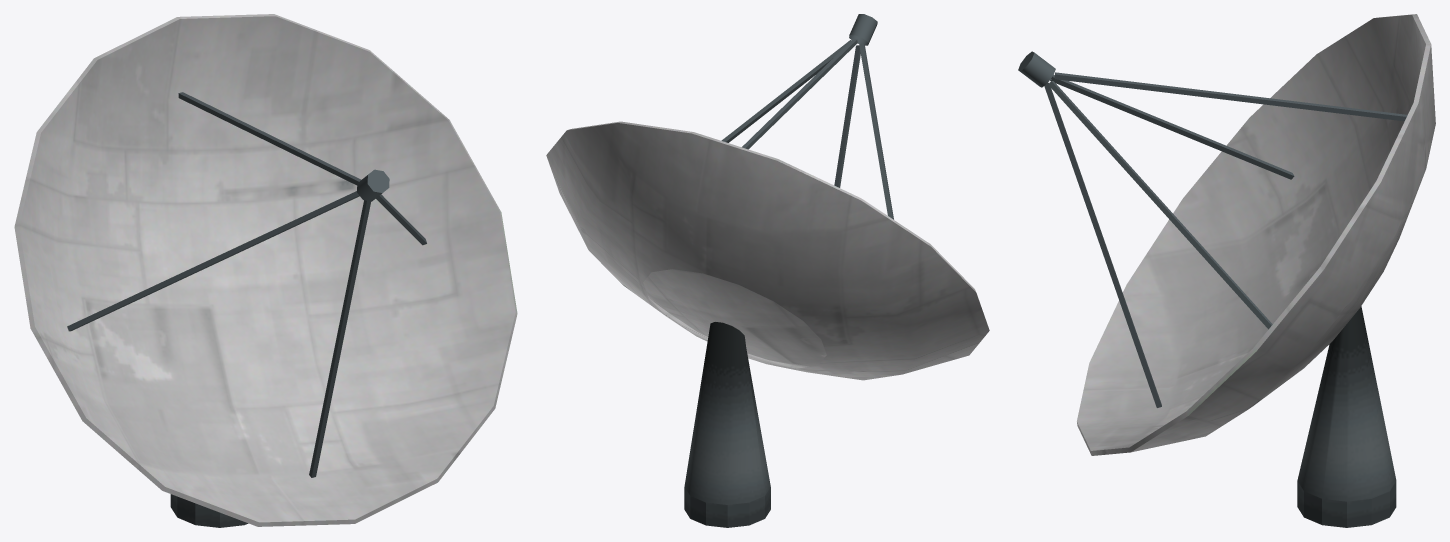
Rendered from OBJ_Radar_anim.FBX.
3 views of the same model, side by side, from view 1: azimuth 30°, elevation 25°; view 2: azimuth 150°, elevation 25°; view 3: azimuth 270°, elevation 25° (orthographic). The views are drawn at different scales.
Parts seen in each view (by area): view 1: OBJ_Radar_anim; view 2: OBJ_Radar_anim; view 3: OBJ_Radar_anim.
Boxes of the visible parts, bbox=[...] form: OBJ_Radar_anim: bbox=[14, 14, 517, 527]; OBJ_Radar_anim: bbox=[546, 14, 989, 527]; OBJ_Radar_anim: bbox=[1018, 14, 1435, 527].
Bounding box in the file's own units: 1.7 × 1.58 × 1.29.
1 material, 1 textured.
